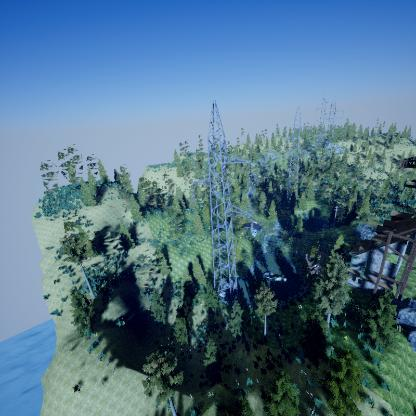tower: (204, 97, 234, 301), (281, 104, 309, 207)
